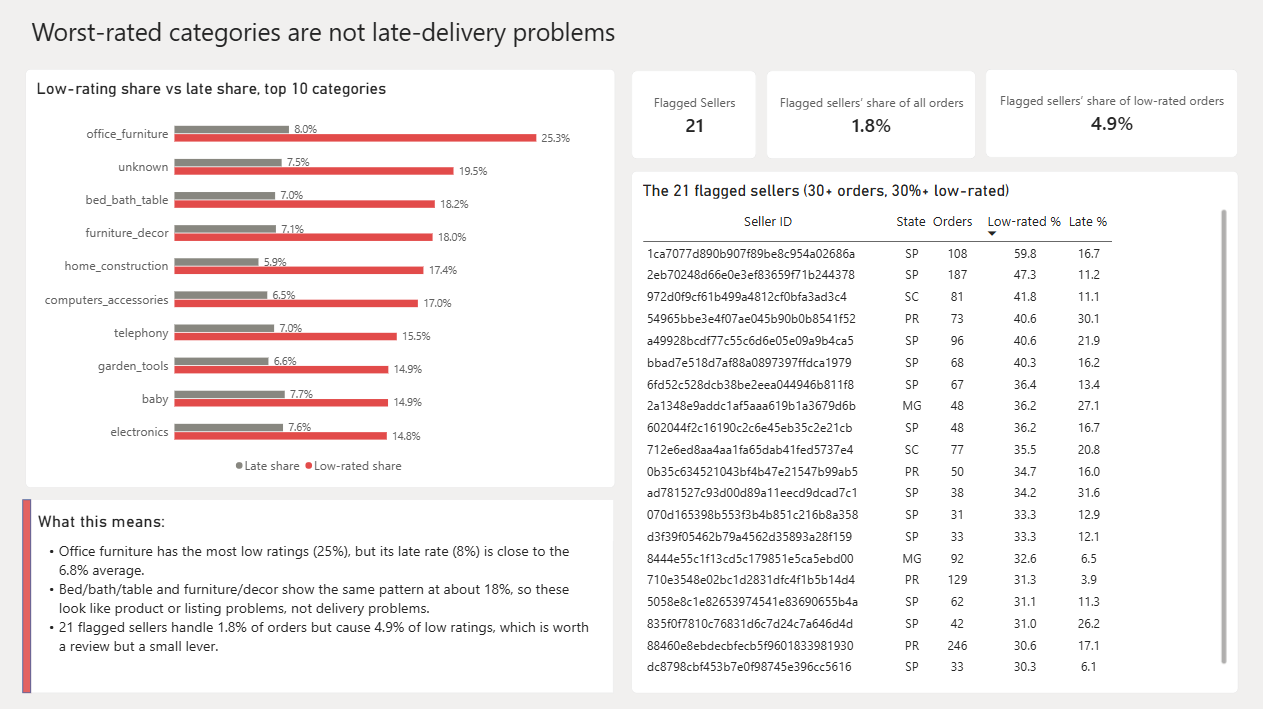

What the dashboard file says about the page in this screenshot:
{"tool":"powerbi","page":{"name":"Categories and Sellers","canvas":[1920,1080],"ordinal":4},"visuals":[{"type":"textbox","box":[47.6,23.8,1151.3,71.8],"z":0},{"type":"clusteredBarChart","title":"Low-rating share vs late share, top 10 categories","fields":{"Category":["bi_items.category"],"Y":["bi_items.Item Late %","bi_items.Item Low Score % (500+)"]},"box":[39.1,104.7,893.5,634.8],"z":1000},{"type":"cardVisual","fields":{"Data":["bi_sellers.Flagged Sellers"]},"box":[956.5,106.1,189.1,134.8],"z":2000},{"type":"cardVisual","fields":{"Data":["bi_sellers.Flagged Share of Orders %"]},"box":[1160.9,106.1,317.4,134.8],"z":3000},{"type":"cardVisual","title":"Flagged sellers’ share of low-rated orders","fields":{"Data":["bi_sellers.Flagged Share of Low %"]},"box":[1493.5,104.7,382.6,134.8],"z":4000},{"type":"tableEx","title":"The 21 flagged sellers (30+ orders, 30%+ low-rated)","fields":{"Values":["bi_sellers.seller_id","bi_sellers.seller_state","bi_sellers.orders","bi_sellers.low_score_pct","bi_sellers.late_pct"]},"box":[957.1,259.5,919.6,791.3],"z":5000},{"type":"textbox","title":"What this means:","box":[37,756.9,893.5,293.5],"z":6000},{"type":"shape","box":[34.8,769.6,13,293.5],"z":7000}]}

Visuals, with their boxes in screenshot pixels (x1, y1, x2, y2), scaled from the page's 1920x1080 canvas onto the 1263x709 screenshot:
textbox: bbox=[31, 16, 789, 63]
"Low-rating share vs late share, top 10 categories" clusteredBarChart: bbox=[26, 69, 613, 485]
cardVisual - bi_sellers.Flagged Sellers: bbox=[629, 70, 754, 158]
cardVisual - bi_sellers.Flagged Share of Orders %: bbox=[764, 70, 972, 158]
"Flagged sellers’ share of low-rated orders" cardVisual: bbox=[982, 69, 1234, 157]
"The 21 flagged sellers (30+ orders, 30%+ low-rated)" tableEx: bbox=[630, 170, 1235, 690]
"What this means:" textbox: bbox=[24, 497, 612, 690]
shape: bbox=[23, 505, 31, 698]
